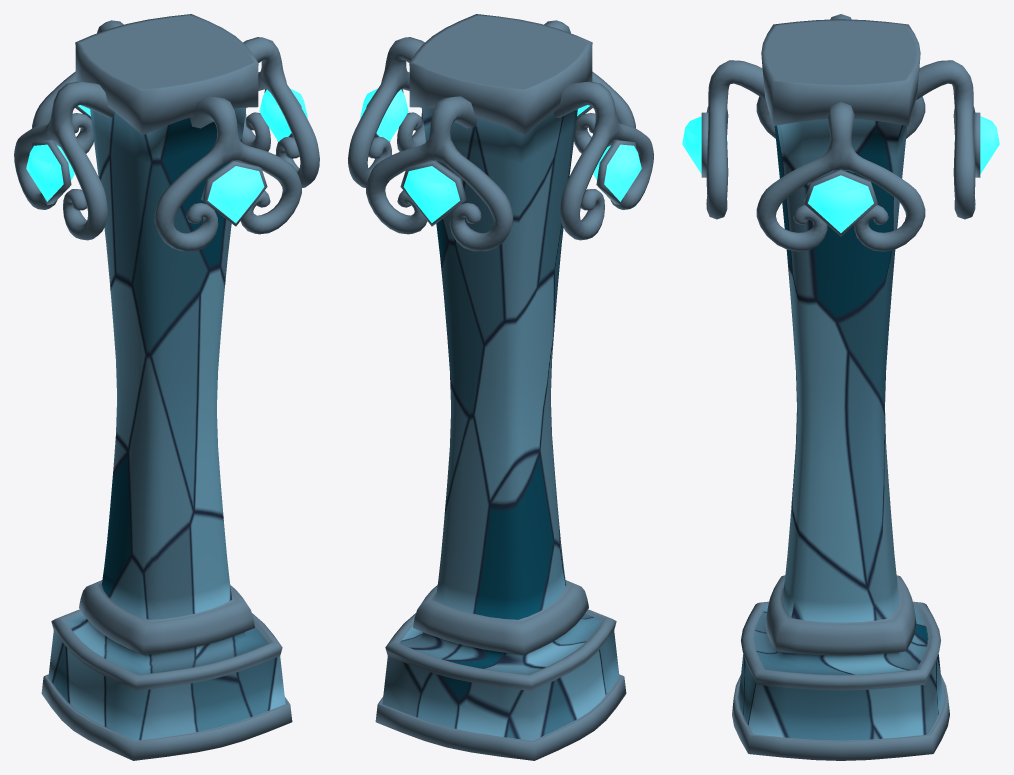
File: Column.fbx
3 views of the same model, side by side, from view 1: azimuth 30°, elevation 25°; view 2: azimuth 150°, elevation 25°; view 3: azimuth 270°, elevation 25° (orthographic).
Visible parts, largest first — view 1: Column.001, Bars.001, Light Pillar.001; view 2: Column.001, Bars.001, Light Pillar.001; view 3: Column.001, Bars.001, Light Pillar.001.
Part boxes in pixels (<box>): Column.001: <box>41,14,292,760</box>; Bars.001: <box>14,20,319,251</box>; Light Pillar.001: <box>26,86,307,226</box>; Column.001: <box>375,14,626,760</box>; Bars.001: <box>348,20,653,251</box>; Light Pillar.001: <box>360,87,641,226</box>; Column.001: <box>732,19,949,760</box>; Bars.001: <box>706,14,975,251</box>; Light Pillar.001: <box>682,112,999,236</box>.
Size of the model in its own units: 187 by 430 by 187.
Materials: 3 (1 with a texture image).
